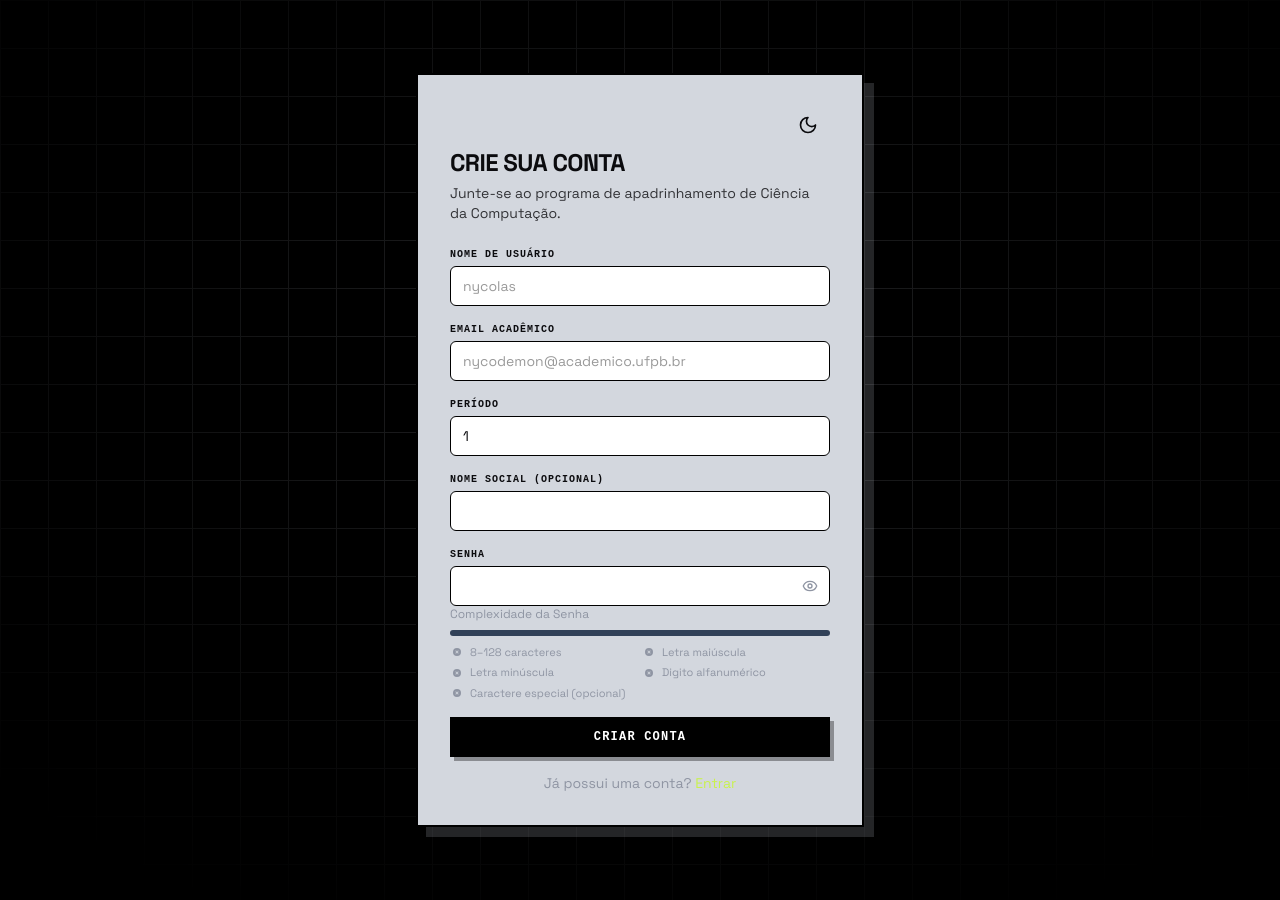
Test: RegisterPage › submits the form and shows the generic success message
Type "new_student" into the field labelled "Nome de usuário" at x=640, y=286, box left=450, top=266, right=830, bottom=306
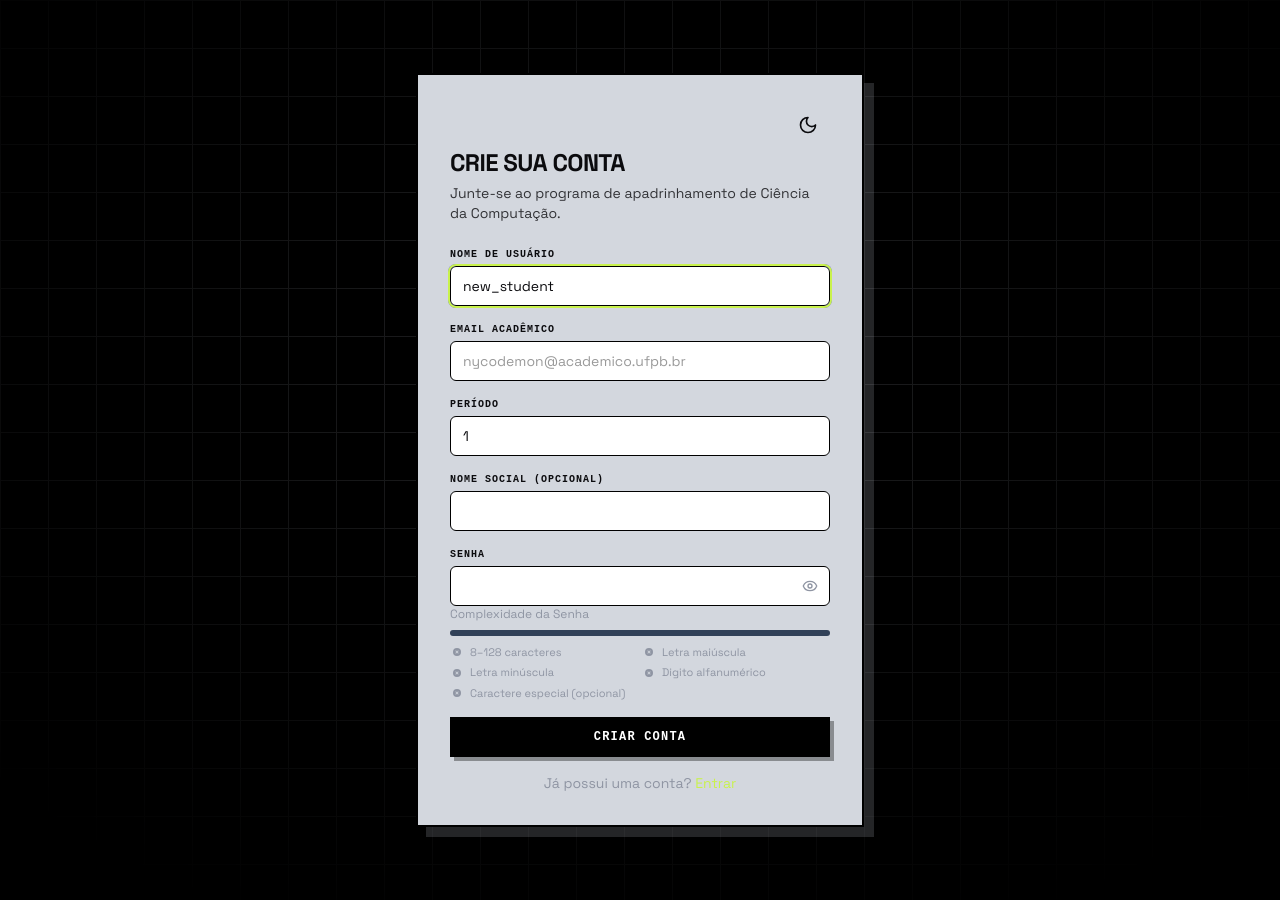
Type "new_student@cs.uni.edu" into the field labelled "Email Acadêmico" at x=640, y=361, box left=450, top=341, right=830, bottom=381
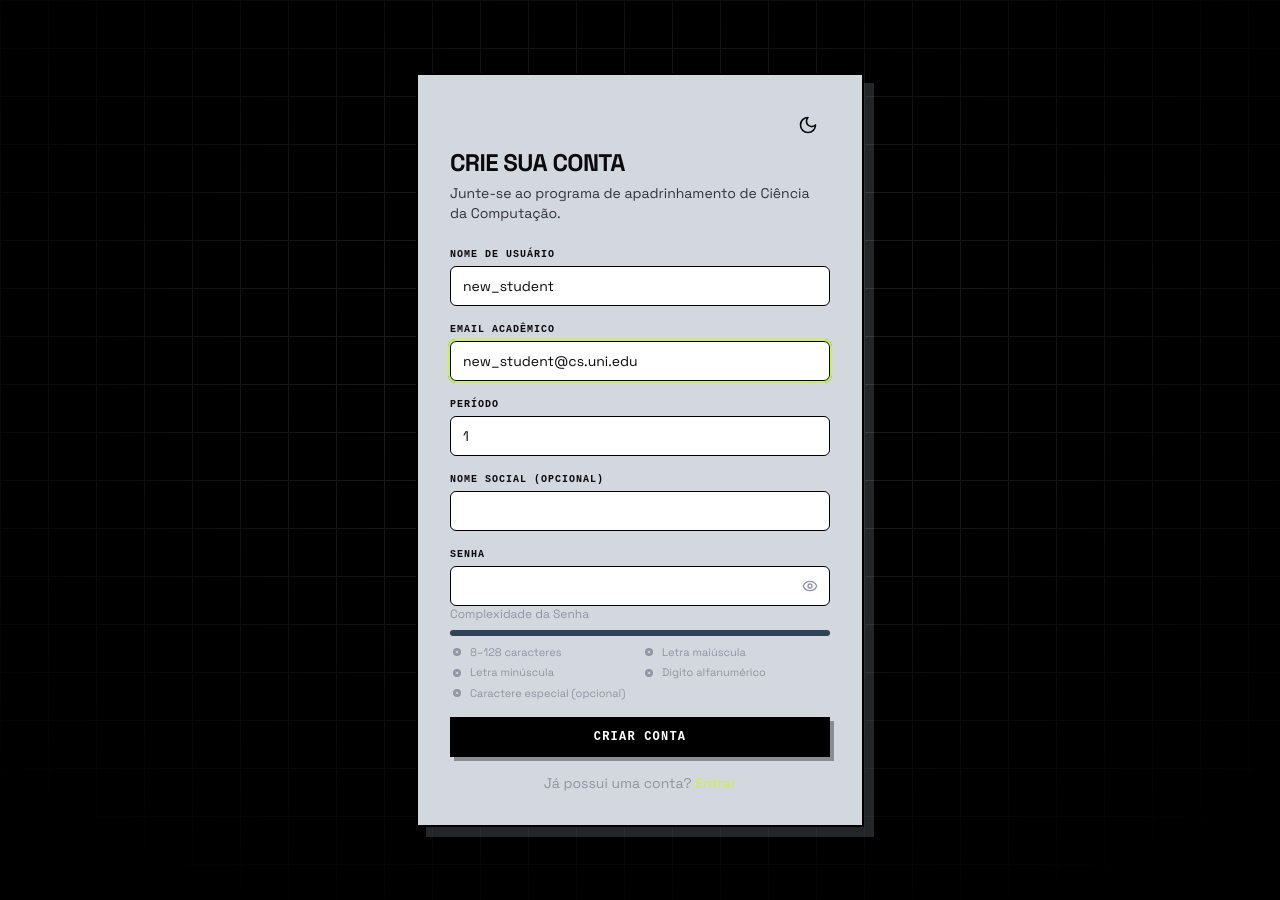
Replace the text in the number field labelled "Período" with "2" at x=640, y=436, box left=450, top=416, right=830, bottom=456
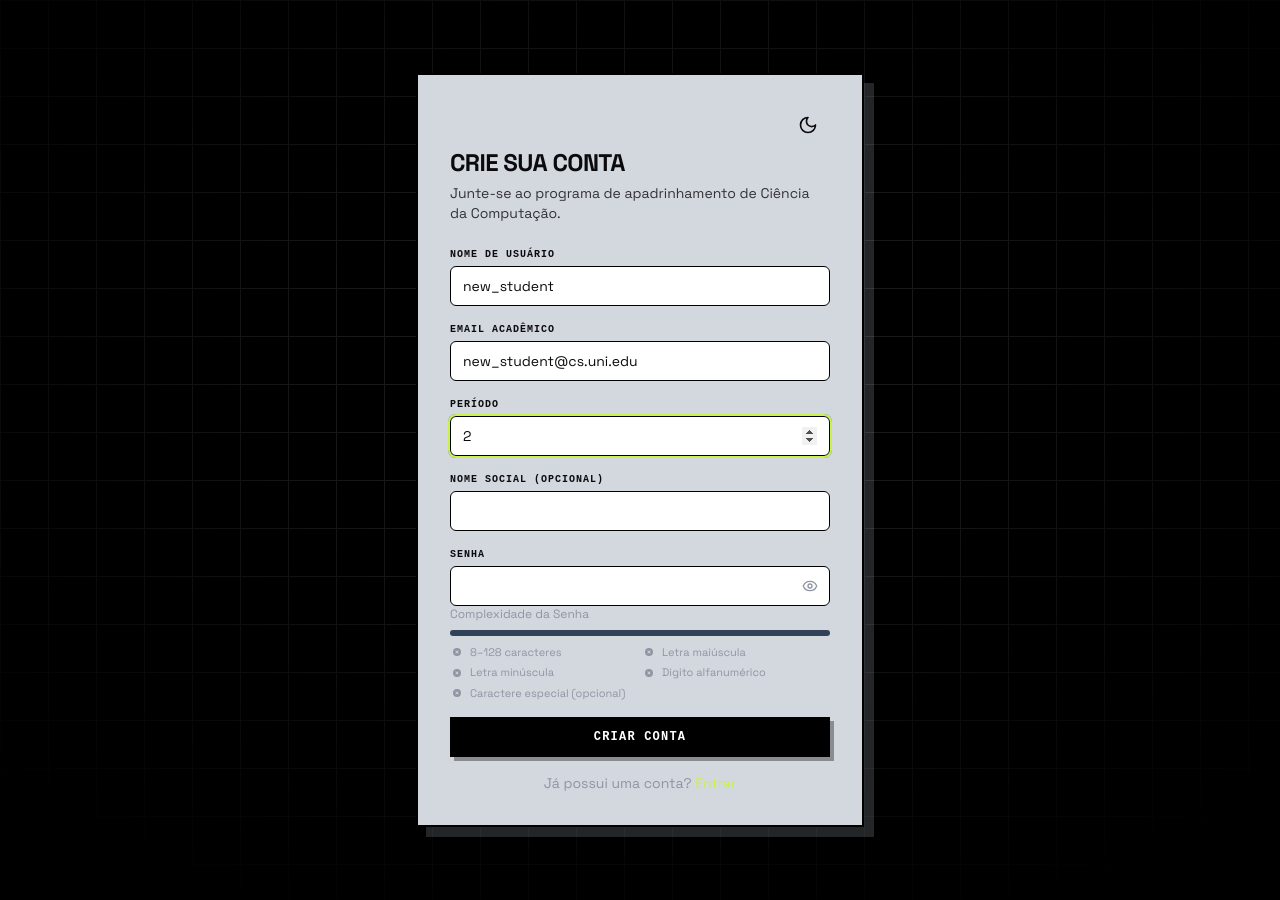
Type "StrongPassword123!" into the password field labelled "Senha" at x=640, y=586, box left=450, top=566, right=830, bottom=606
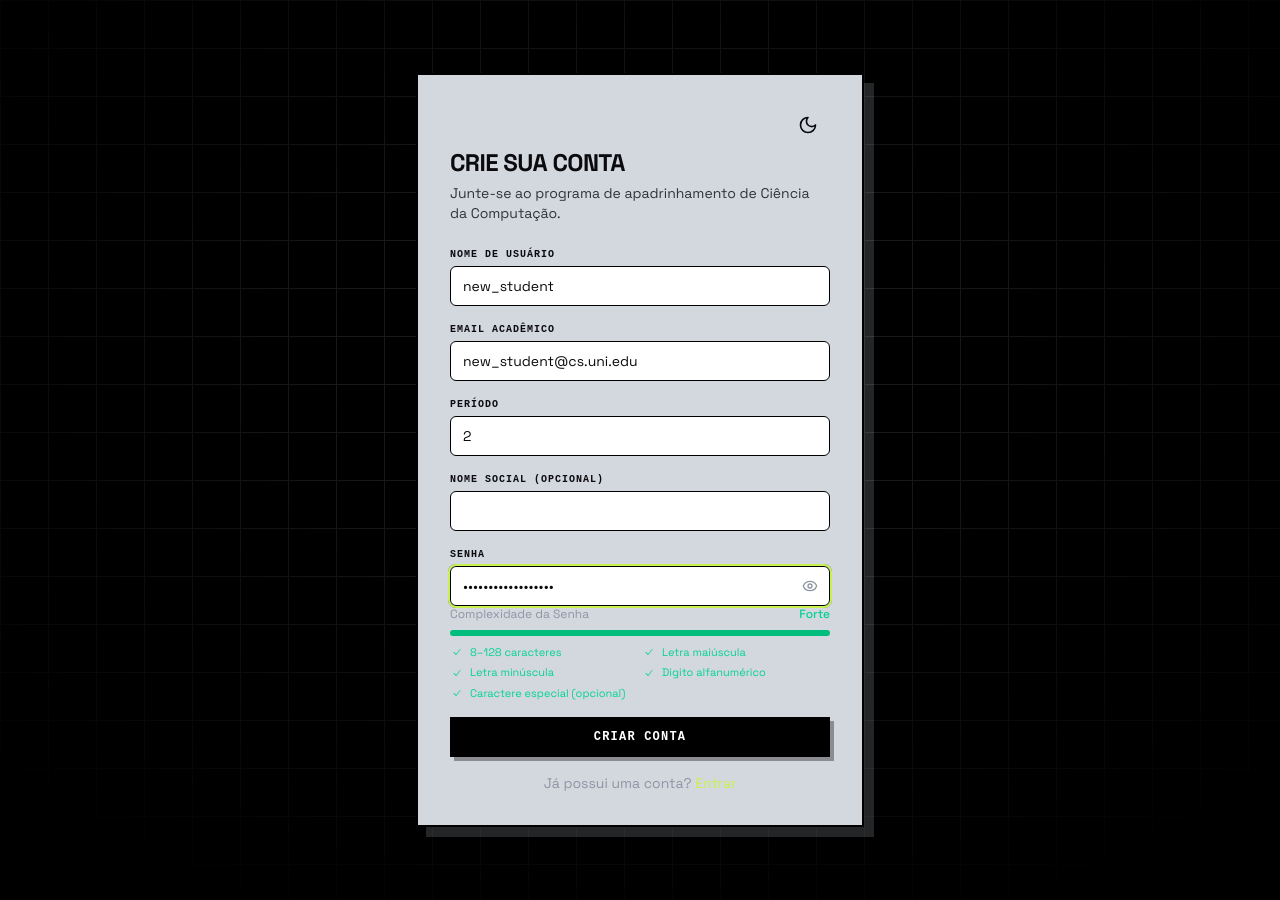
Click the button "Criar conta" at x=640, y=737, box left=450, top=717, right=830, bottom=757
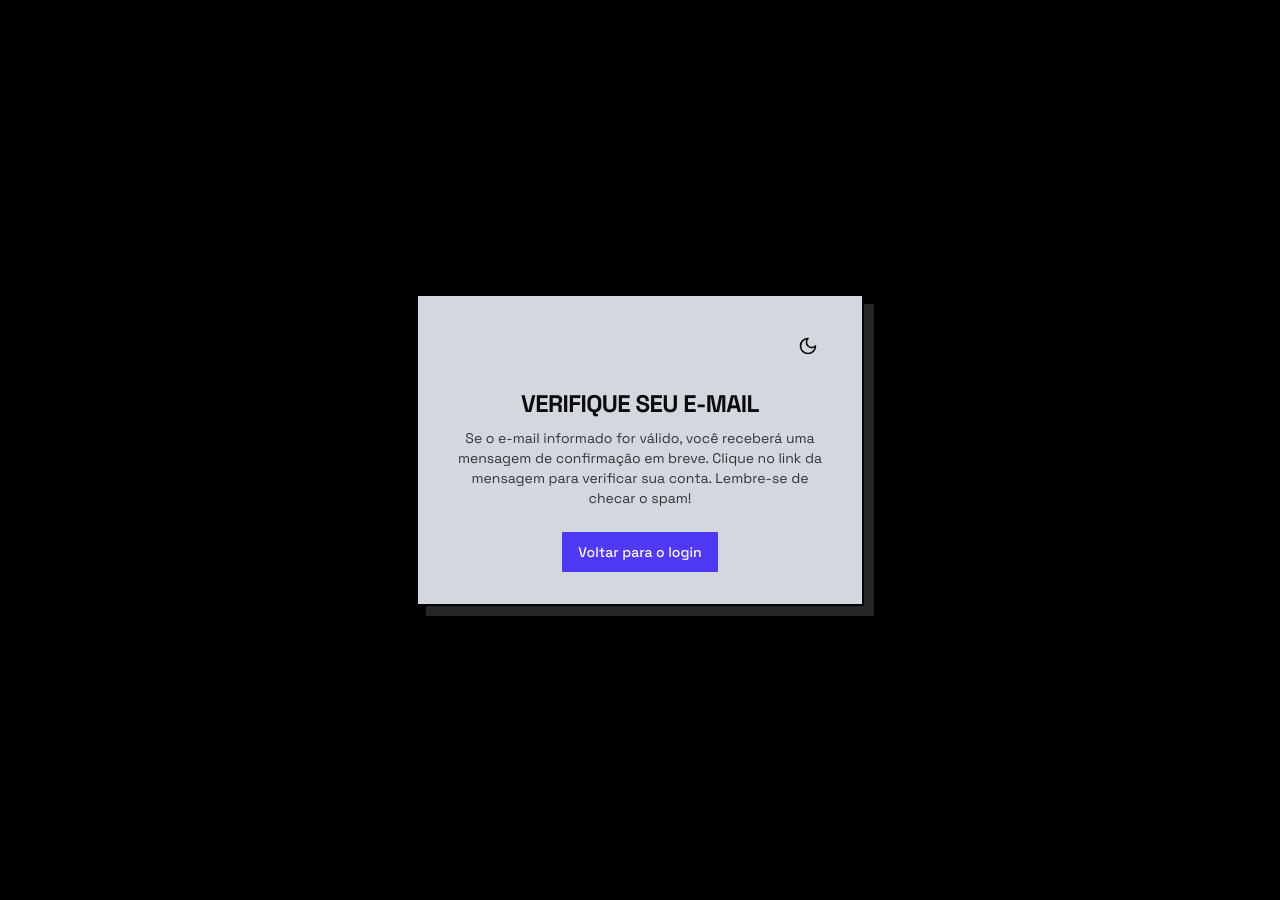
Result: the heading "Verifique seu e-mail" is shown at left=521, top=388, right=759, bottom=419
